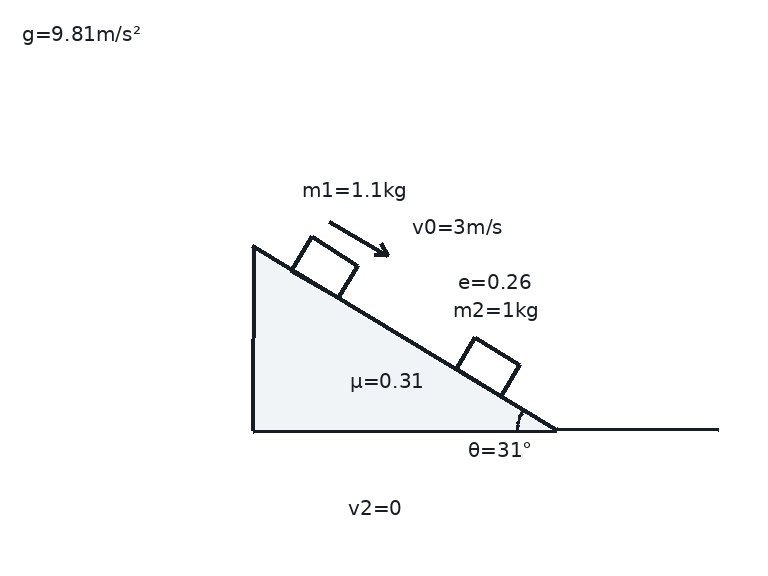block: (289, 235, 359, 300), (454, 335, 521, 398)
ramp: (250, 245, 559, 432)
